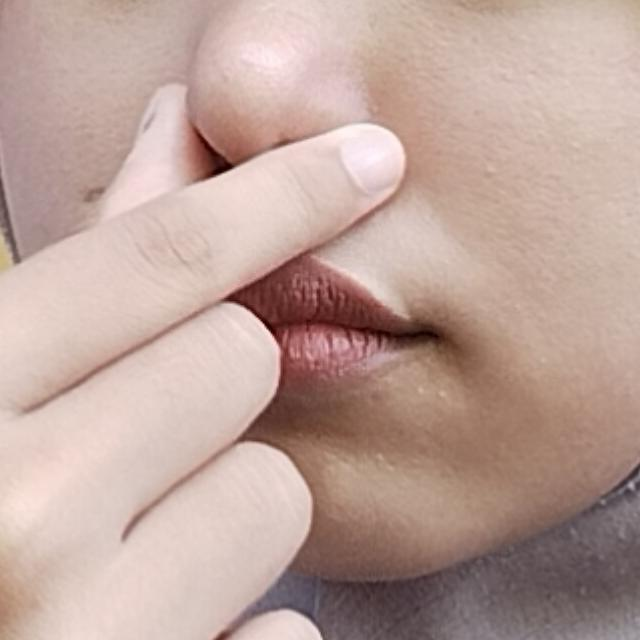bau: (0, 18, 436, 640)
